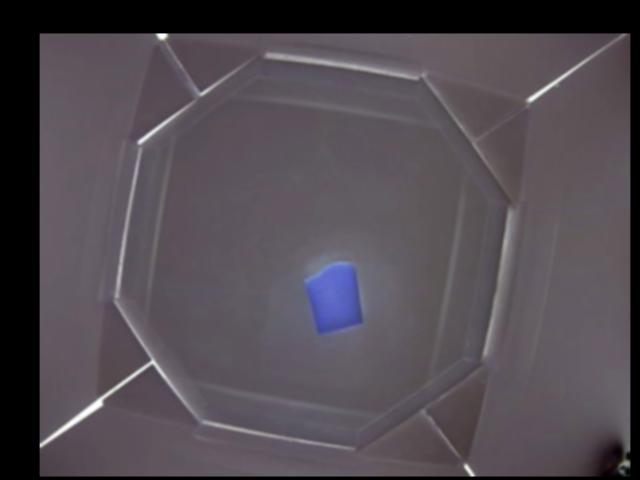Potato: (305, 260, 363, 332)
